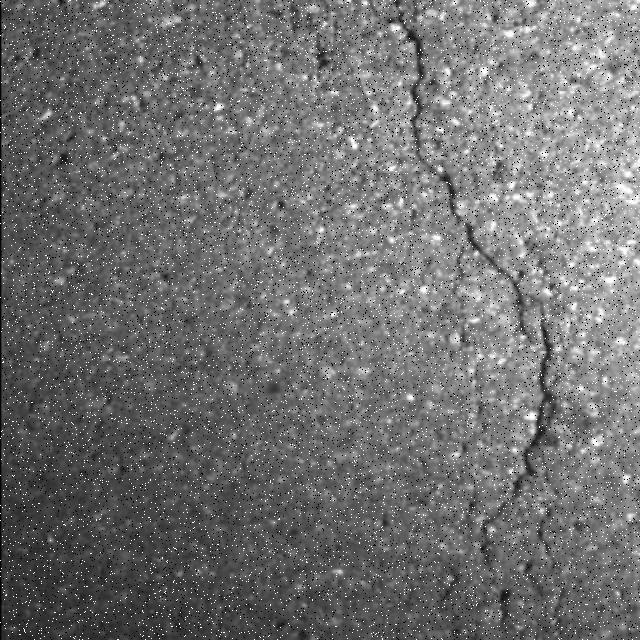Crack: (391, 0, 562, 638)
